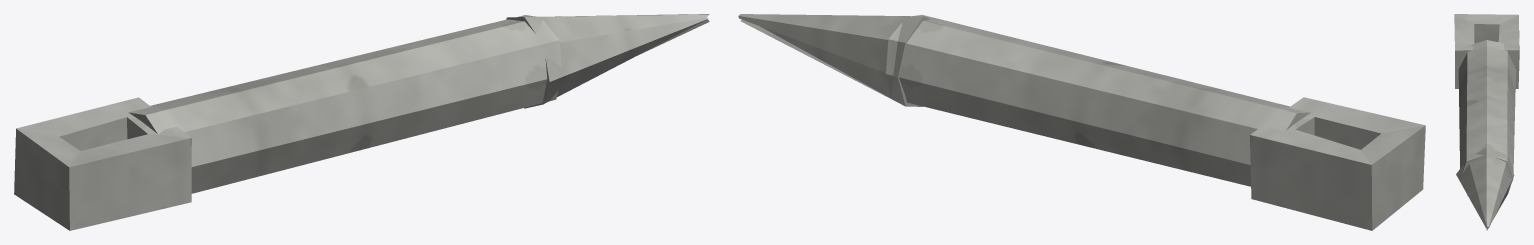
File: needle_giant.glb
3 renders of one model, left to right at view 1: azimuth 30°, elevation 25°; view 2: azimuth 150°, elevation 25°; view 3: azimuth 270°, elevation 25°, orthographic. The views are drawn at different scales.
Visible parts, largest first — view 1: NeedleGiant; view 2: NeedleGiant; view 3: NeedleGiant.
Boxes of the visible parts, left/top/right/bottom form: NeedleGiant: left=14, top=14, right=709, bottom=230; NeedleGiant: left=738, top=14, right=1425, bottom=230; NeedleGiant: left=1454, top=14, right=1519, bottom=230.
Size of the model in its own units: 1.01 by 0.1329 by 0.1435.
1 material, 1 textured.
